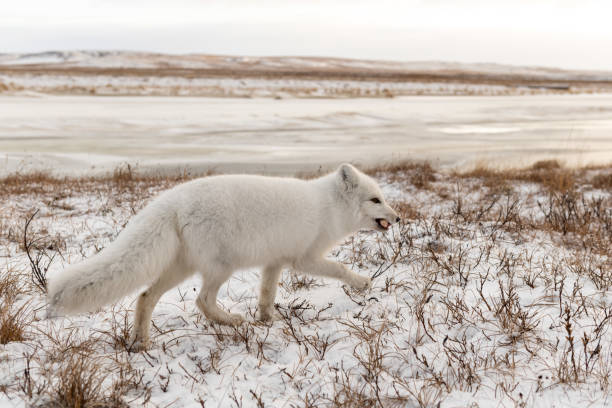arcticfox: (341, 161, 384, 237)
